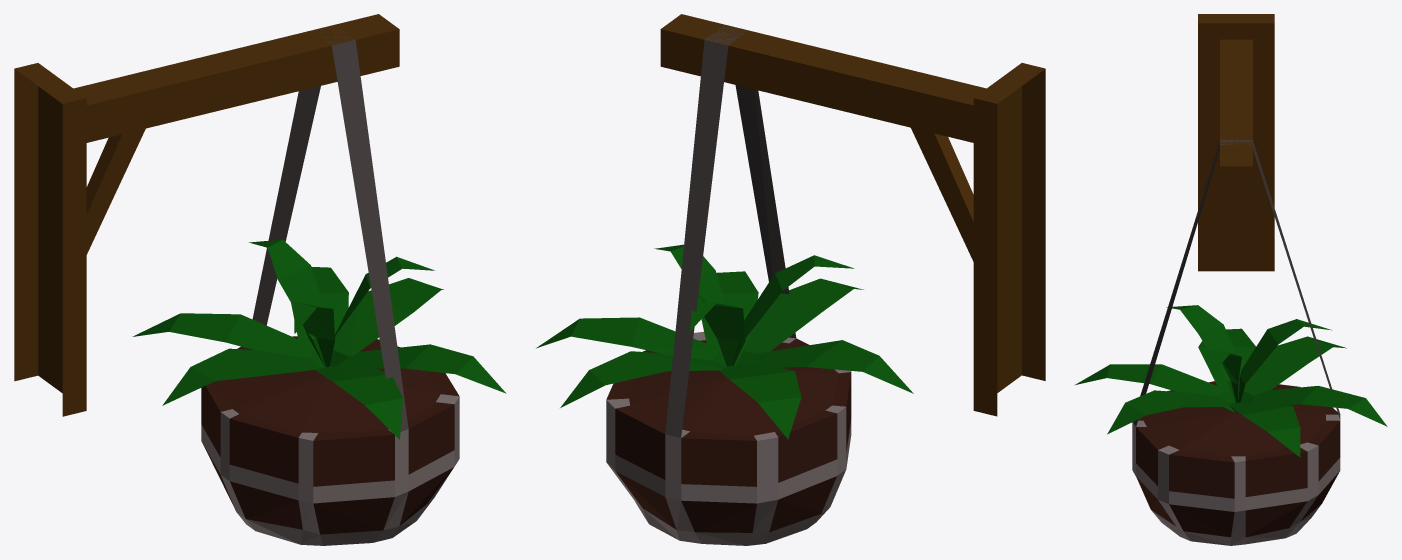
The model's file is model_loc_1159_q.obj.
3 views of the same model, side by side, from view 1: azimuth 30°, elevation 25°; view 2: azimuth 150°, elevation 25°; view 3: azimuth 270°, elevation 25° (orthographic). The views are drawn at different scales.
Parts seen in each view (by area): view 1: 2069; view 2: 2069; view 3: 2069.
Boxes of the visible parts, x1=… form: 2069: x1=14, y1=14, x2=506, y2=545; 2069: x1=536, y1=14, x2=1045, y2=545; 2069: x1=1074, y1=14, x2=1387, y2=545.
Size of the model in its own units: 112 by 123 by 86.
